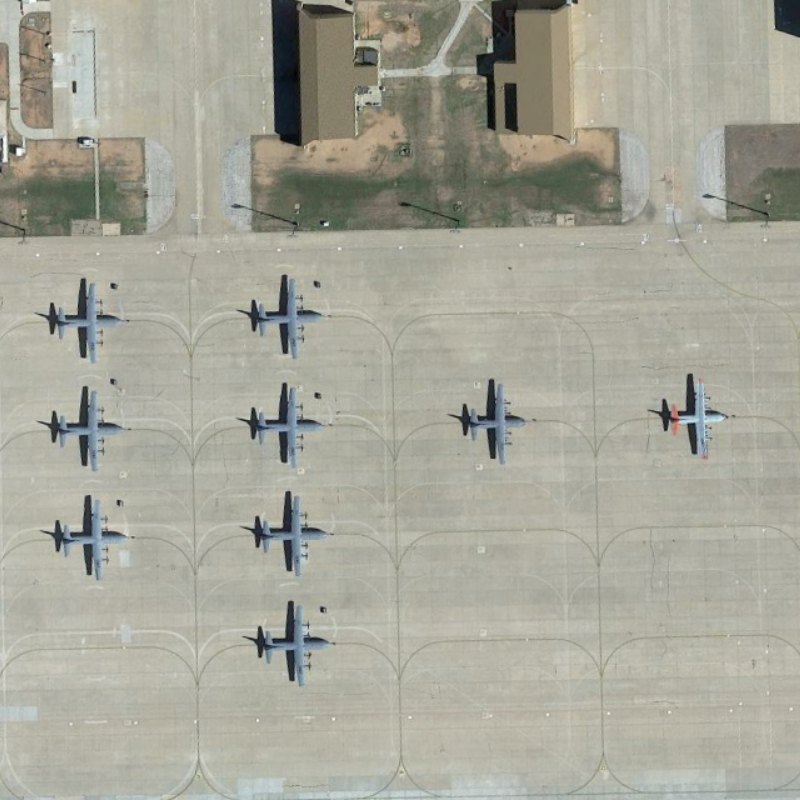A2: (37, 271, 139, 364), (246, 263, 330, 373), (49, 489, 140, 590), (46, 381, 138, 478), (245, 489, 333, 584), (242, 380, 331, 470), (452, 366, 529, 468), (254, 596, 337, 689), (654, 368, 731, 468)
